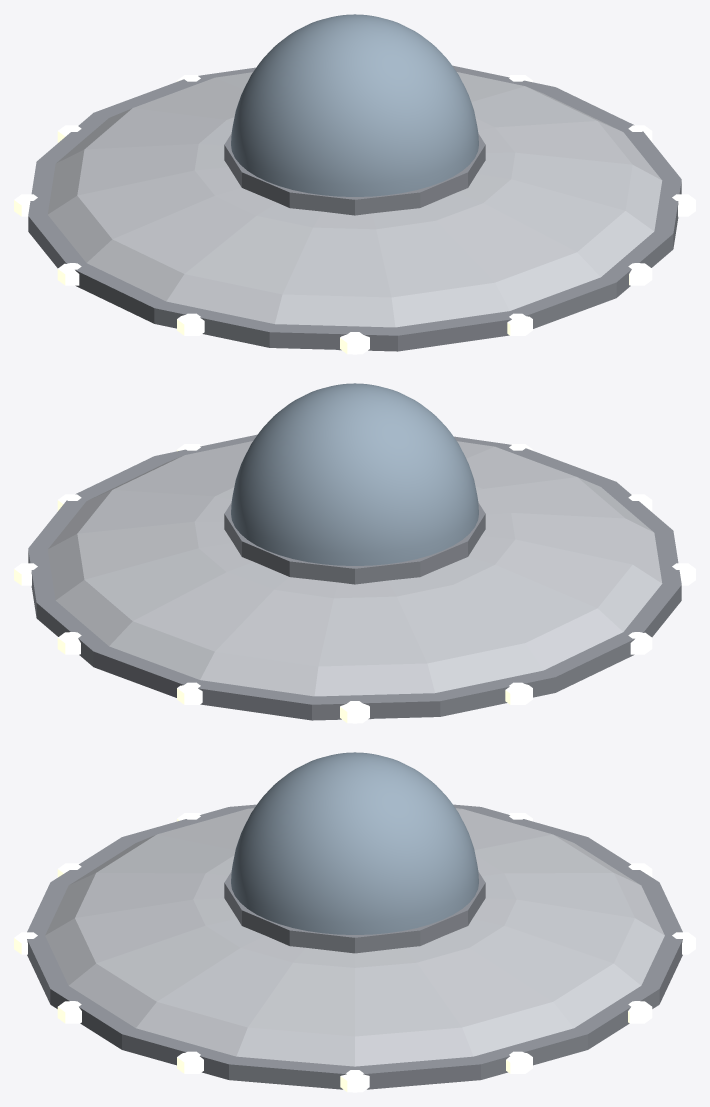
File: ufo.glb
3 views of the same model, one above another, from view 1: azimuth 30°, elevation 25°; view 2: azimuth 150°, elevation 25°; view 3: azimuth 270°, elevation 25° (orthographic).
Visible parts, largest first — view 1: ufo, dome; view 2: ufo, dome; view 3: ufo, dome.
Boxes of the visible parts, x1=… form: ufo: x1=14, y1=65, x2=695, y2=354; dome: x1=231, y1=14, x2=478, y2=196; ufo: x1=14, y1=434, x2=695, y2=723; dome: x1=231, y1=383, x2=478, y2=565; ufo: x1=14, y1=804, x2=695, y2=1092; dome: x1=231, y1=752, x2=478, y2=934.
Size of the model in its own units: 5.45 by 2.23 by 5.48.
